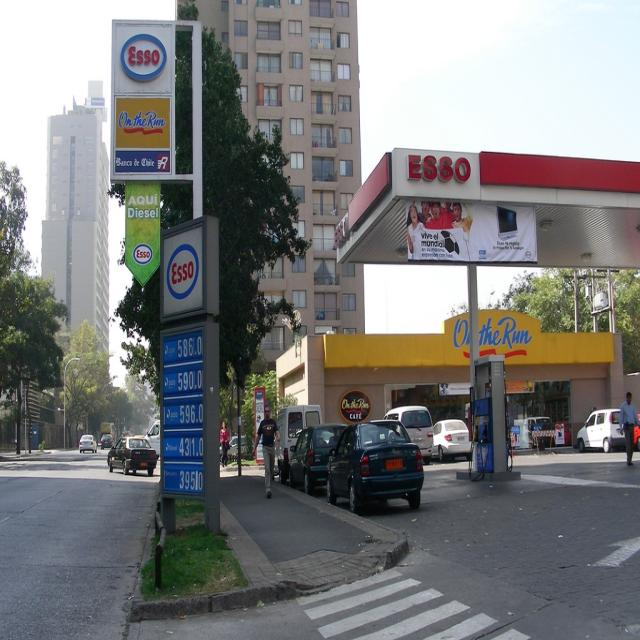esso: (120, 33, 171, 83), (164, 242, 204, 304), (133, 240, 155, 268)
